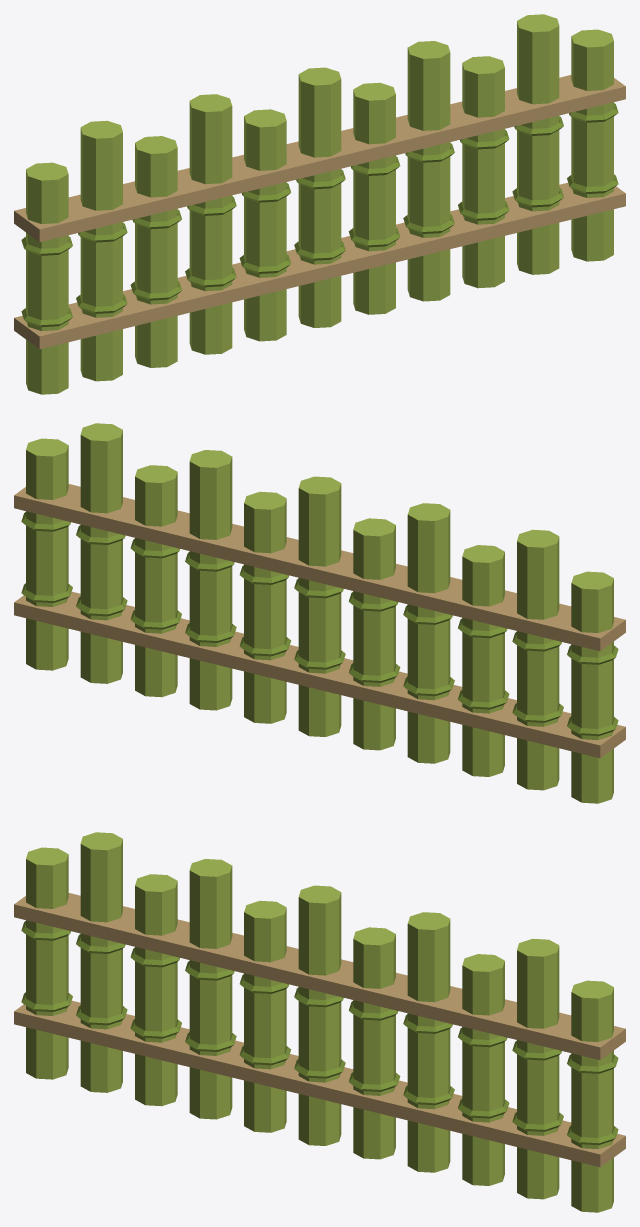
File: BambooFence.fbx
3 renders of one model, top to bottom at view 1: azimuth 30°, elevation 25°; view 2: azimuth 150°, elevation 25°; view 3: azimuth 330°, elevation 25°, orthographic.
Parts seen in each view (by area): view 1: Bamboo, Rope, Rings; view 2: Bamboo, Rope, Rings; view 3: Bamboo, Rope, Rings.
Part boxes in pixels (box(x1,y1,x2,y2)): Bamboo: box(26, 14, 613, 394); Rope: box(14, 75, 625, 349); Rings: box(21, 103, 618, 327); Bamboo: box(26, 423, 613, 803); Rope: box(14, 484, 625, 758); Rings: box(21, 512, 618, 736); Bamboo: box(26, 832, 613, 1212); Rope: box(14, 893, 625, 1167); Rings: box(21, 921, 618, 1145).
Bounding box in the file's own units: 8.68 × 3.4 × 0.68.
